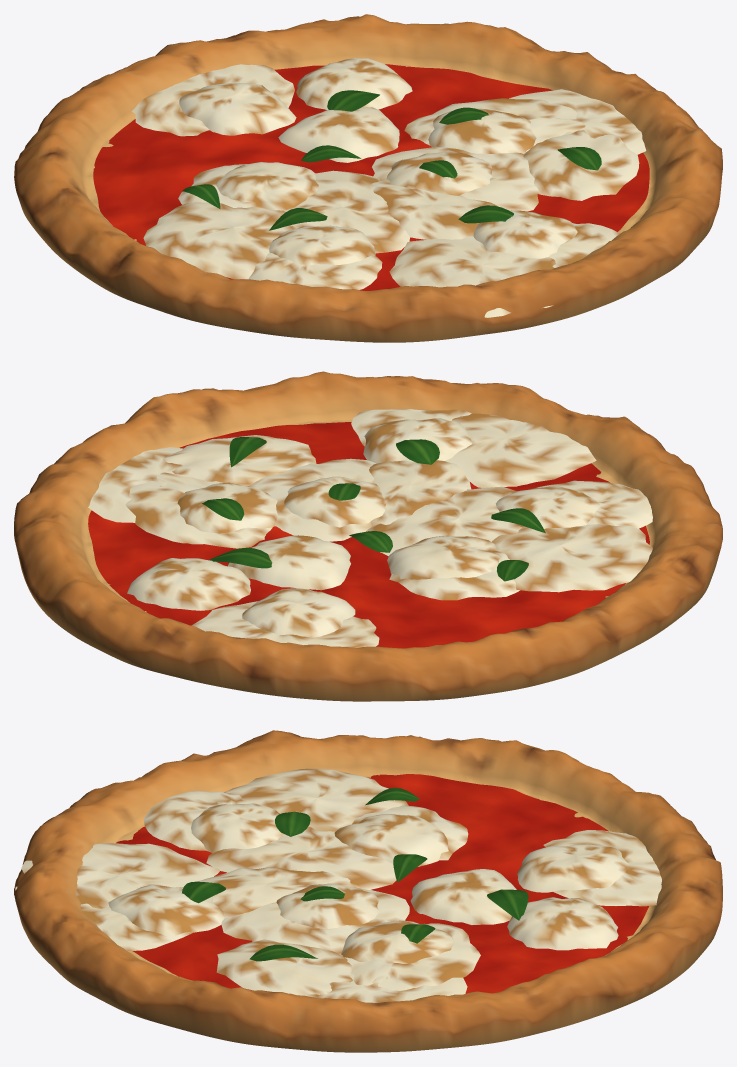
The model's file is pizza_margherita.glb.
3 views of the same model, one above another, from view 1: azimuth 30°, elevation 25°; view 2: azimuth 150°, elevation 25°; view 3: azimuth 270°, elevation 25° (orthographic).
Parts seen in each view (by area): view 1: dough, sauce, cheese7, cheese2, cheese4, cheese10, fior5, fior6, cheese8, cheese9, fior7, cheese5 (+16 smaller); view 2: dough, sauce, cheese7, cheese2, fior7, cheese10, cheese4, cheese3, fior6, cheese9, fior4, fior5 (+16 smaller); view 3: dough, sauce, cheese7, cheese2, cheese10, cheese4, fior7, fior5, fior6, cheese5, cheese8, fior1 (+15 smaller).
Part boxes in pixels (bbox=[...]): dough: bbox=[14, 14, 722, 342]; sauce: bbox=[93, 64, 649, 290]; cheese7: bbox=[143, 202, 297, 279]; cheese2: bbox=[389, 236, 555, 317]; cheese4: bbox=[523, 130, 639, 200]; cheese10: bbox=[284, 170, 410, 253]; fior5: bbox=[179, 82, 296, 135]; fior6: bbox=[278, 107, 399, 162]; cheese8: bbox=[132, 64, 294, 136]; cheese9: bbox=[371, 179, 497, 239]; fior7: bbox=[296, 58, 412, 109]; cheese5: bbox=[372, 146, 539, 211]; dough: bbox=[14, 371, 722, 701]; sauce: bbox=[88, 422, 649, 648]; cheese7: bbox=[492, 523, 652, 592]; cheese2: bbox=[445, 413, 596, 487]; fior7: bbox=[127, 558, 250, 610]; cheese10: bbox=[365, 486, 521, 556]; cheese4: bbox=[163, 435, 316, 486]; cheese3: bbox=[125, 472, 272, 548]; fior6: bbox=[228, 535, 350, 590]; cheese9: bbox=[369, 460, 471, 526]; fior4: bbox=[387, 536, 500, 579]; fior5: bbox=[242, 588, 355, 637]; dough: bbox=[14, 730, 722, 1052]; sauce: bbox=[116, 774, 649, 993]; cheese7: bbox=[226, 768, 408, 831]; cheese2: bbox=[15, 843, 219, 908]; cheese10: bbox=[206, 826, 396, 889]; cheese4: bbox=[216, 939, 352, 994]; fior7: bbox=[507, 897, 618, 950]; fior5: bbox=[517, 844, 628, 892]; fior6: bbox=[410, 869, 516, 924]; cheese5: bbox=[221, 887, 409, 954]; cheese8: bbox=[543, 830, 661, 906]; fior1: bbox=[108, 884, 224, 936].
Bounding box in the file's own units: 1.98 × 0.1421 × 2.01.
